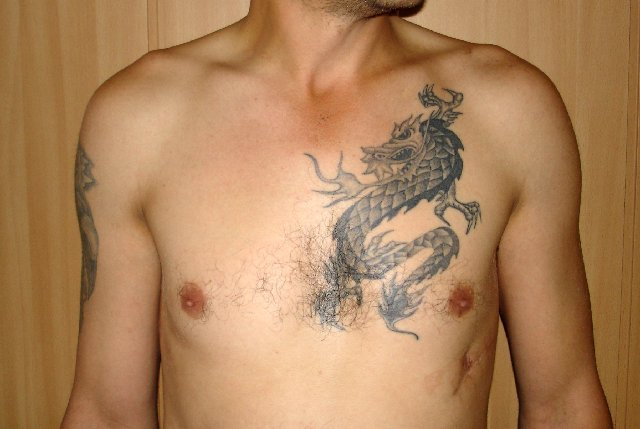tatu6_drakon: (295, 62, 519, 346)
